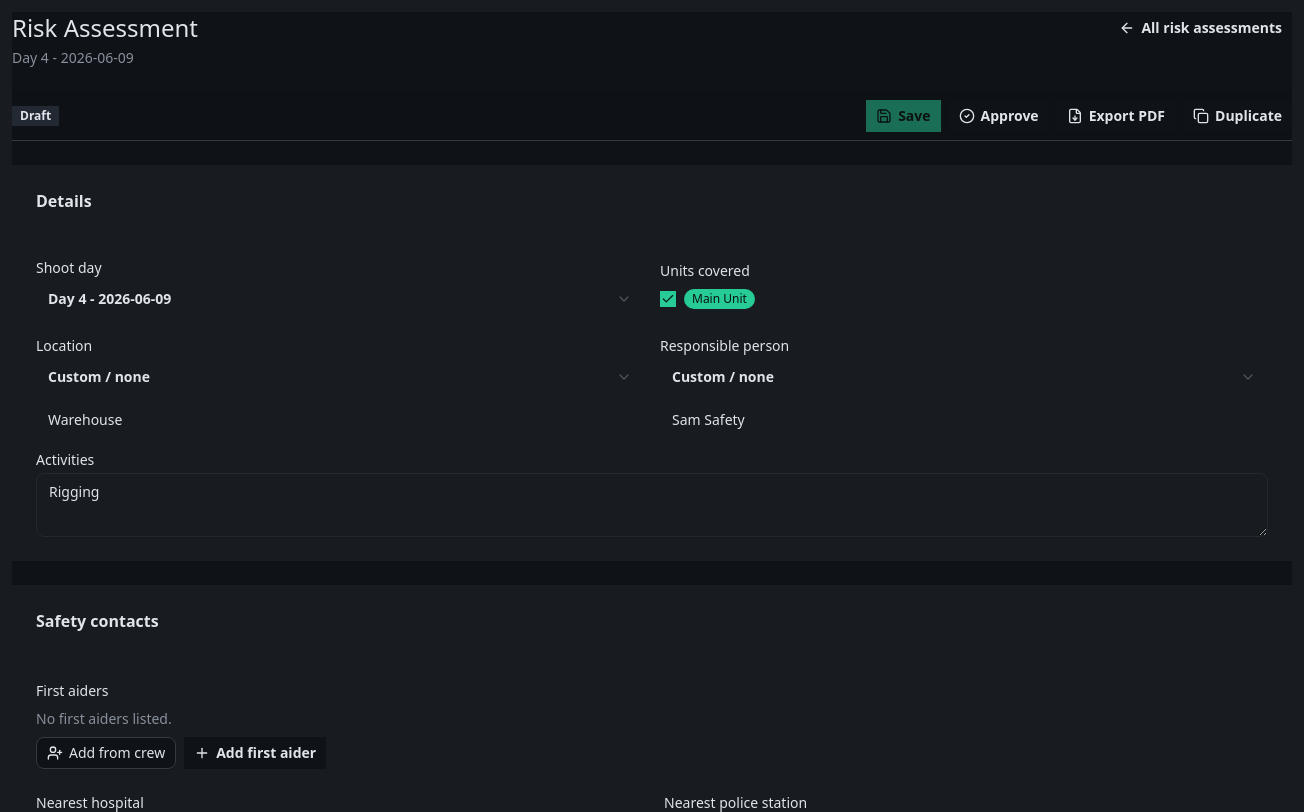
Test: RiskAssessmentEditorPage › blocks approving while there are unsaved changes
The image size is (1304, 812).
Step 1. Type " 2" into the field named "Location name" → (340,419), box top-left (36, 401), bottom-right (644, 437)
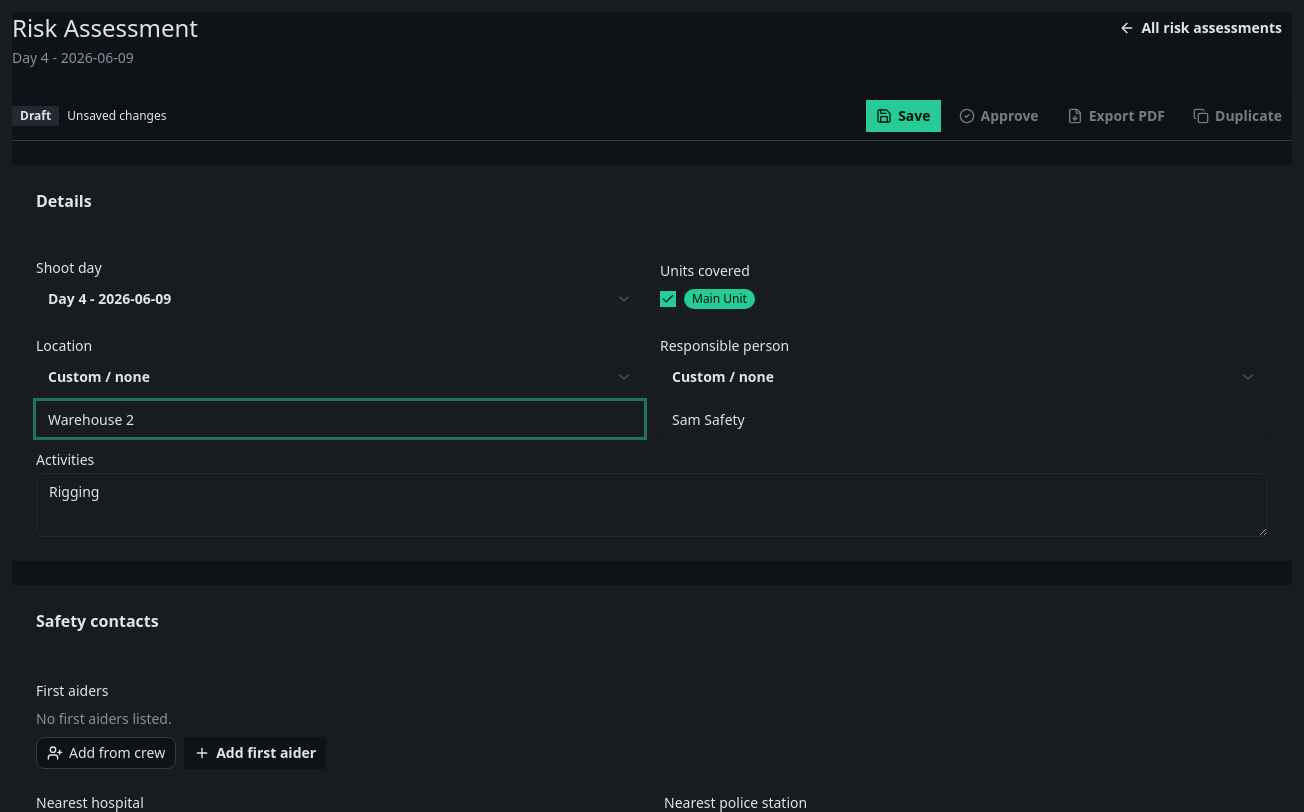
Result: the button "Approve" is disabled at top-left (949, 100), bottom-right (1049, 132)
Result: the button "Export PDF" is disabled at top-left (1057, 100), bottom-right (1175, 132)
